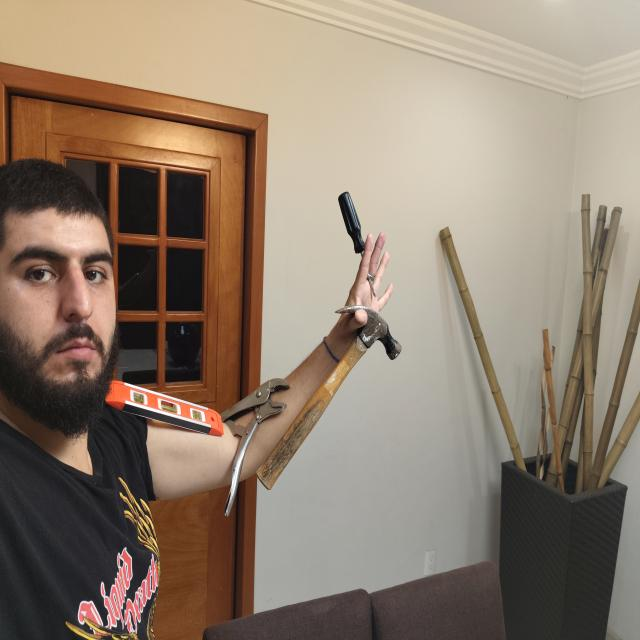Desarmador: (328, 184, 388, 308)
Martillo: (251, 303, 410, 496)
Nivel: (102, 371, 232, 446)
PinzasPresion: (208, 360, 295, 521)
